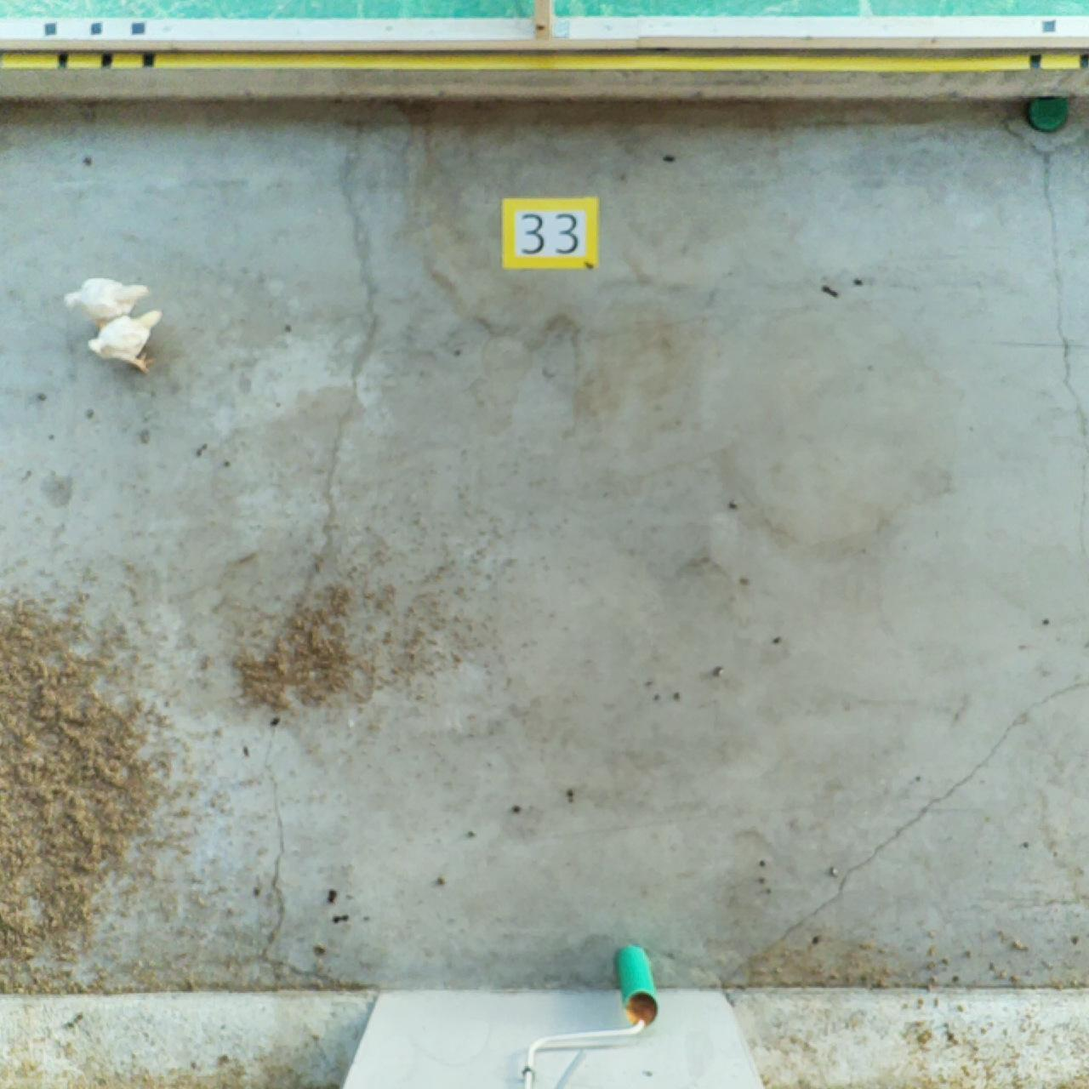chicken: (82, 306, 176, 378), (59, 274, 153, 332)
